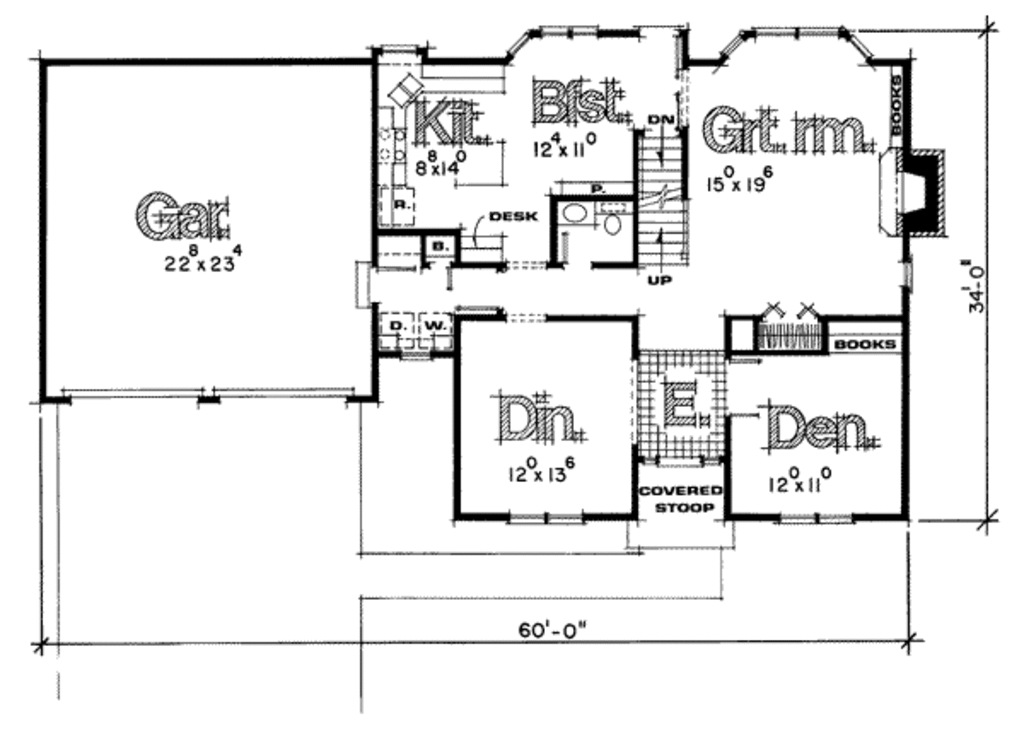large_sink: (599, 197, 634, 237)
small_sink: (556, 200, 597, 233)
stairs: (633, 113, 691, 293)
twin_sink: (385, 71, 422, 112)
window: (717, 19, 879, 71), (505, 25, 601, 58), (500, 511, 592, 529), (775, 511, 861, 530)
